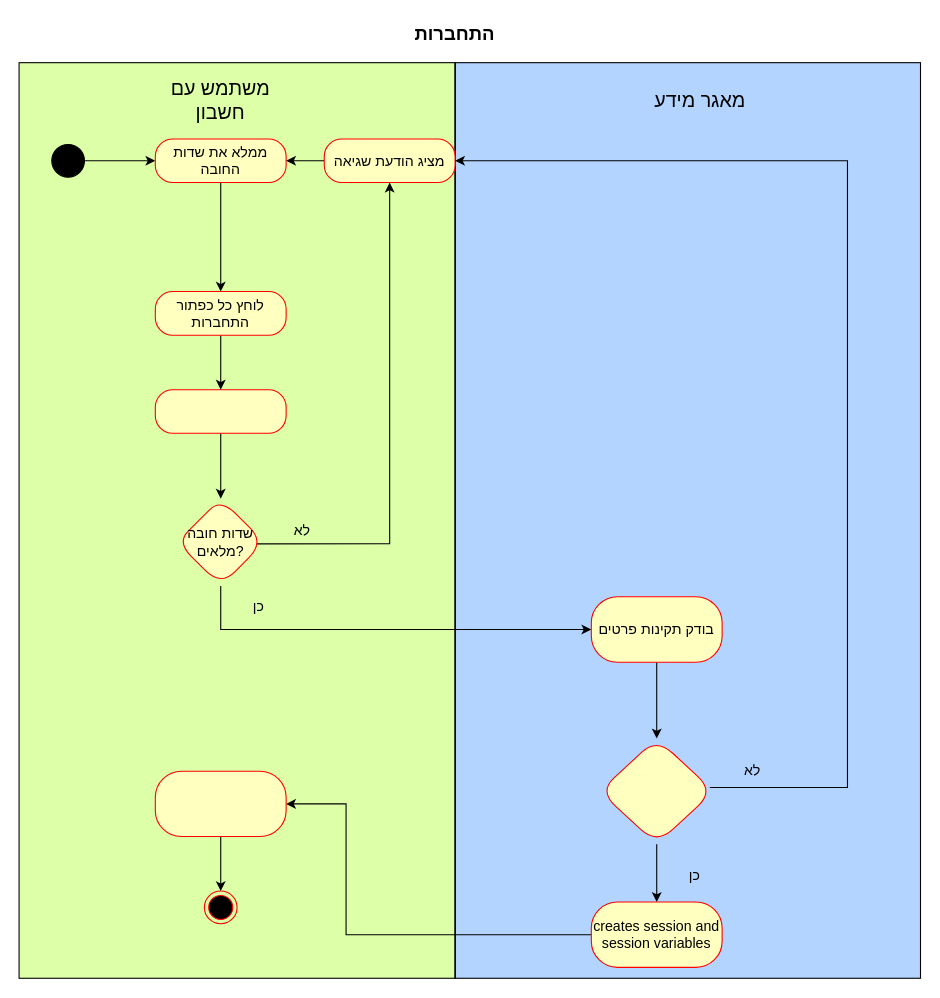
This 940x998 diagram has some shape labels left out. The centre of each missing label's shape, as x and y in pixels:
"בודק שדות חובה" belongs at (x=220, y=411).
"עובר לדף ראשי" belongs at (x=220, y=803).
"פרטיי התחברות מאומתים" belongs at (x=656, y=790).
